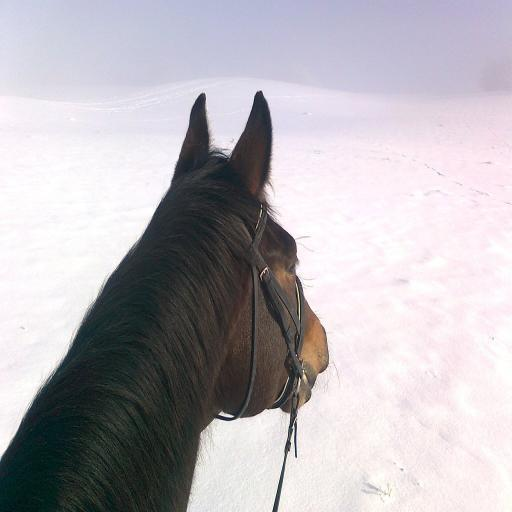horse: (0, 90, 339, 512)
